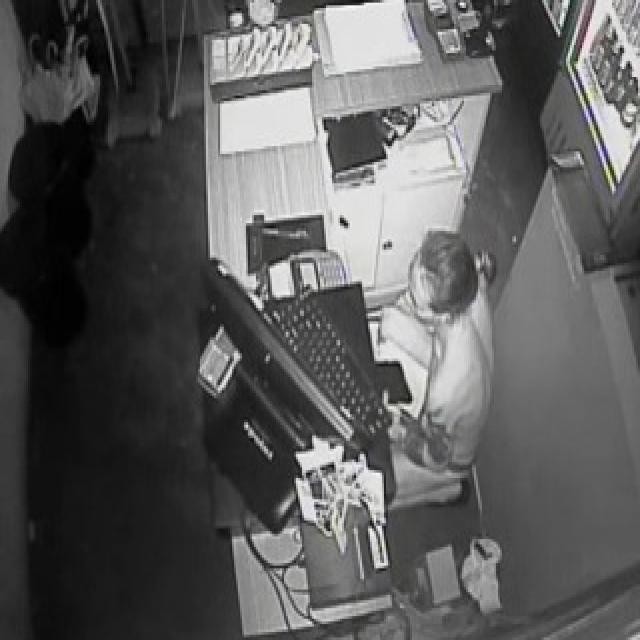thief: (386, 225, 498, 455)
